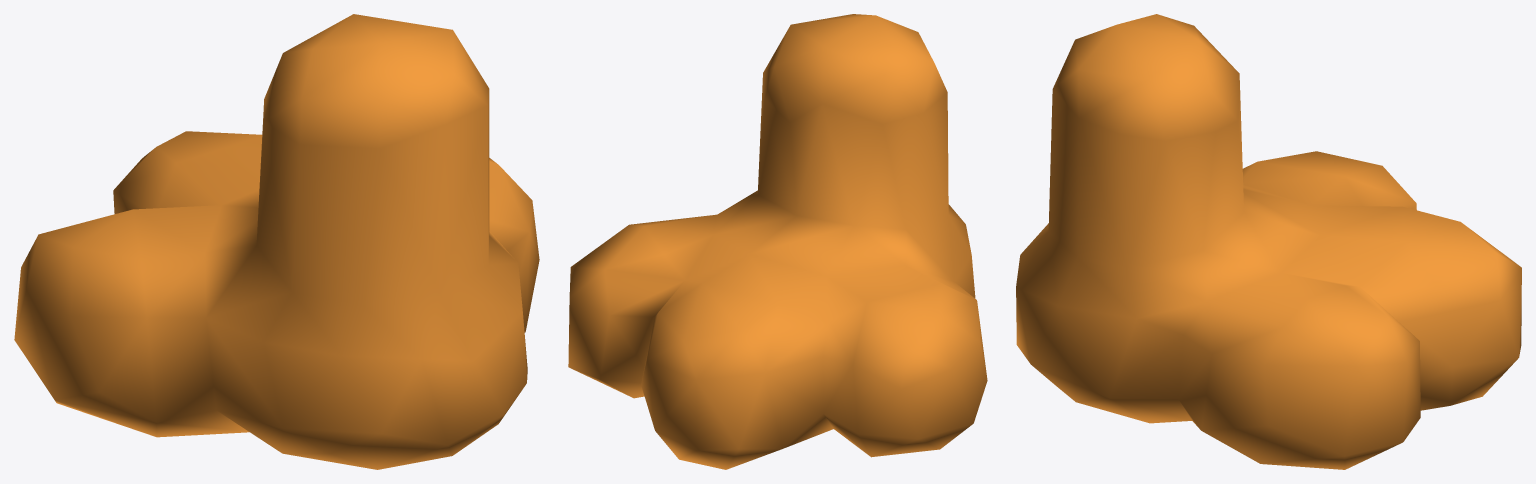
The model's file is dexel.glb.
3 views of the same model, side by side, from view 1: azimuth 30°, elevation 25°; view 2: azimuth 150°, elevation 25°; view 3: azimuth 270°, elevation 25° (orthographic). The views are drawn at different scales.
Bounding box in the file's own units: 1.25 × 1.04 × 1.33.
Materials: 1 (1 with a texture image).
